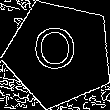O_S: (35, 26, 83, 81)
